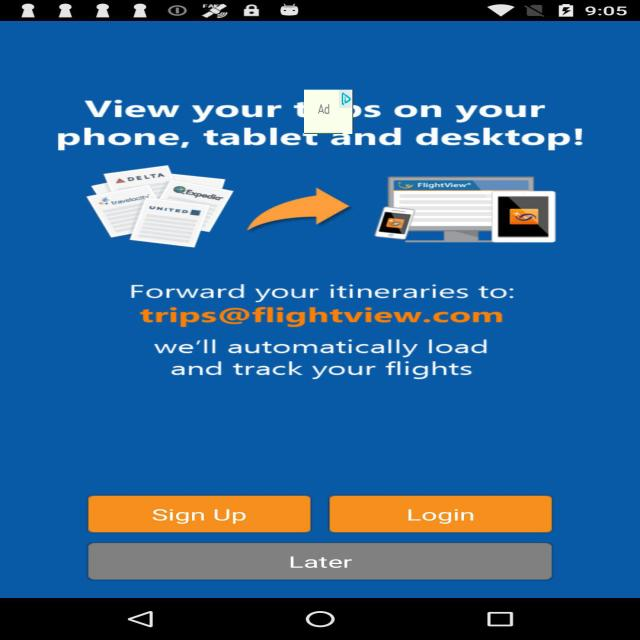sneaking: (304, 90, 353, 134)
